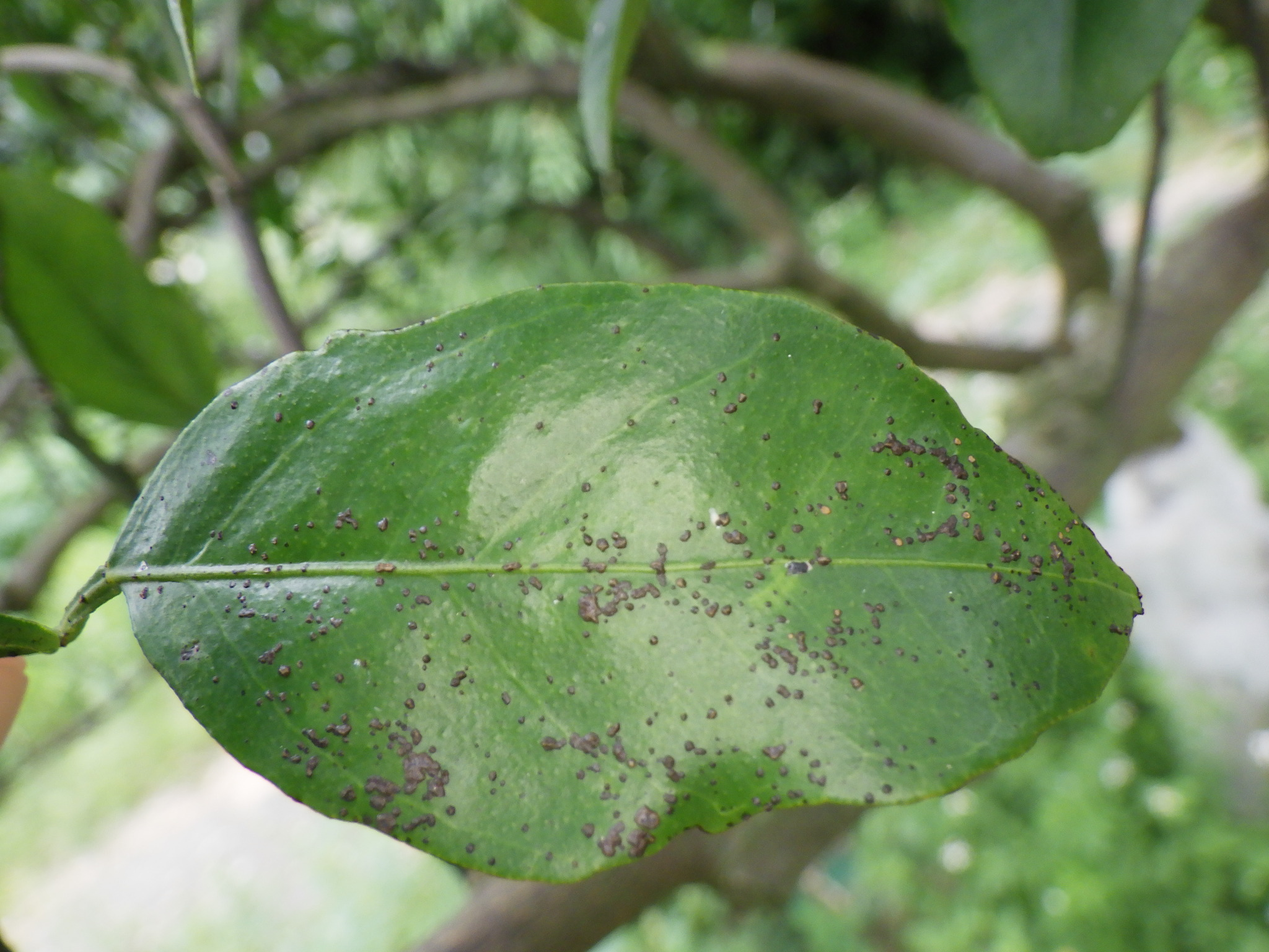Black_Spot: (60, 283, 1140, 882)
